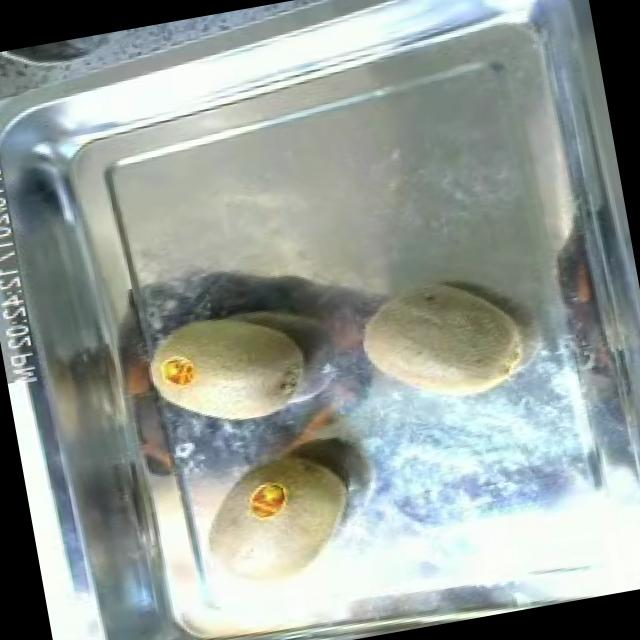Fruit: (340, 258, 544, 422), (182, 438, 368, 608), (138, 282, 326, 446)
